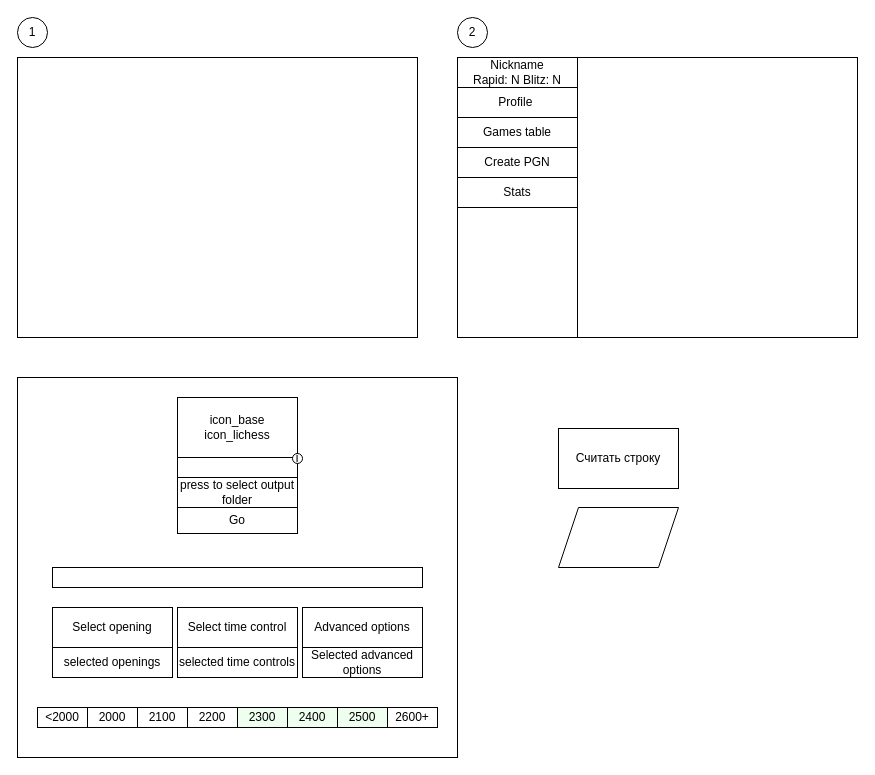
The diagram is 875 pixels wide and 775 high, and some of its shapes have lost their labels. Here are the shapes that lost their labels. From the top down, the box of each, then its label:
(16, 56, 418, 338): Enter your lichess nickname:
(176, 456, 298, 478): press to select base
(558, 506, 678, 568): Архив (30 ГБ)
(52, 566, 422, 588): progressBar
